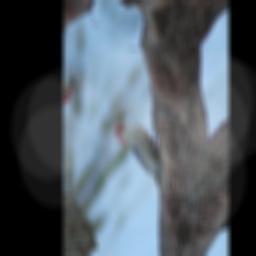Woodpecker: (108, 105, 173, 190)
